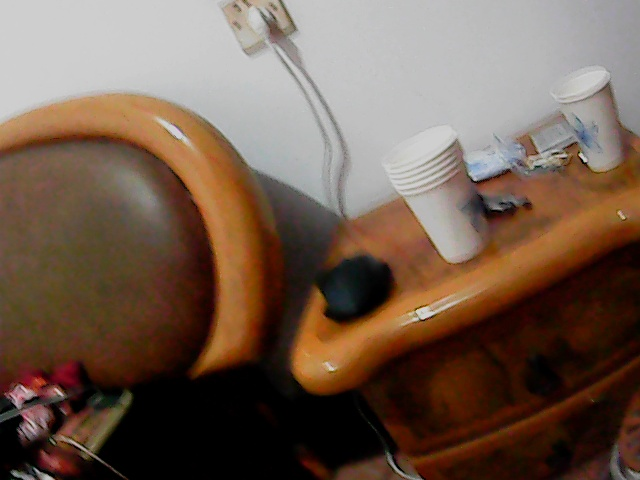cup: (383, 127, 498, 262)
mouse: (310, 250, 391, 320)
